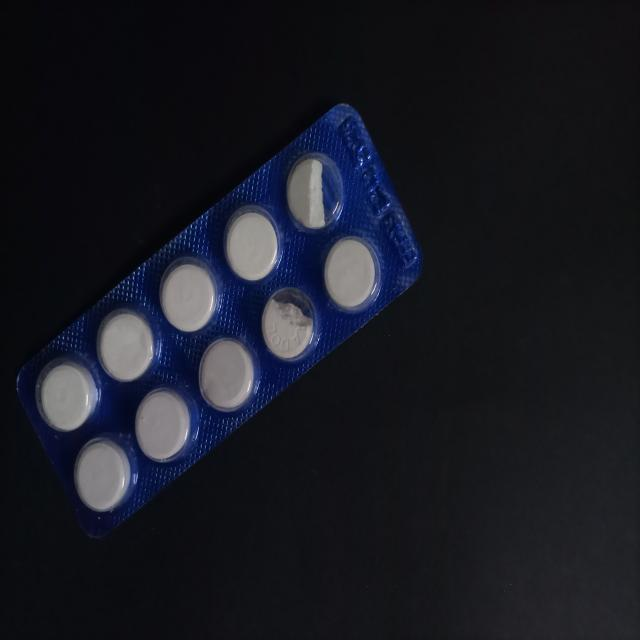defect: (283, 150, 348, 239), (258, 282, 322, 368)
